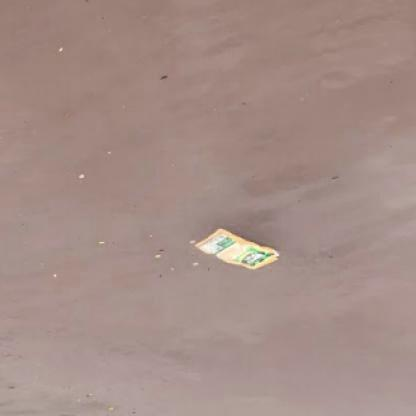Trash: (192, 224, 282, 274)
